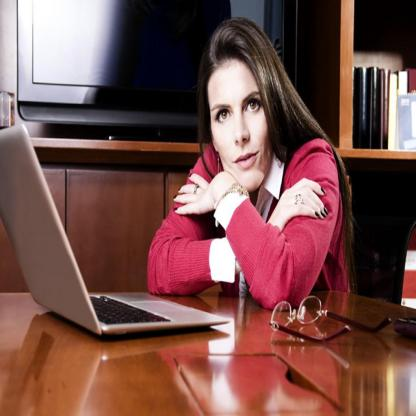board: (24, 158, 210, 342)
